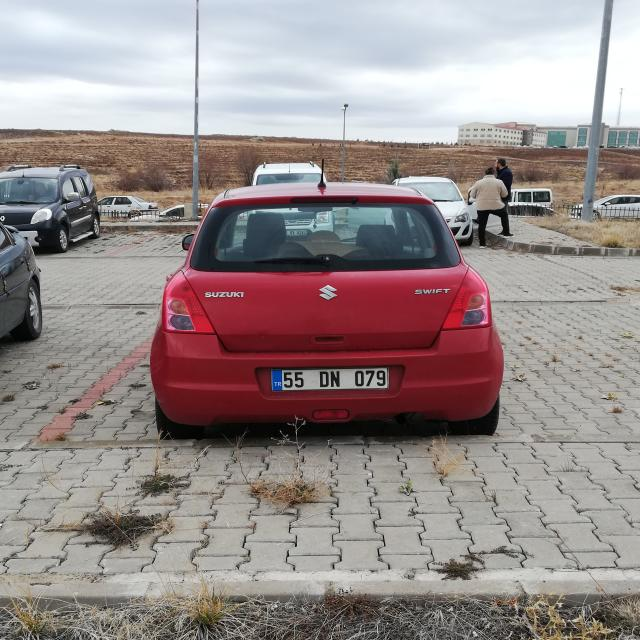license_plate: (270, 368, 390, 392)
